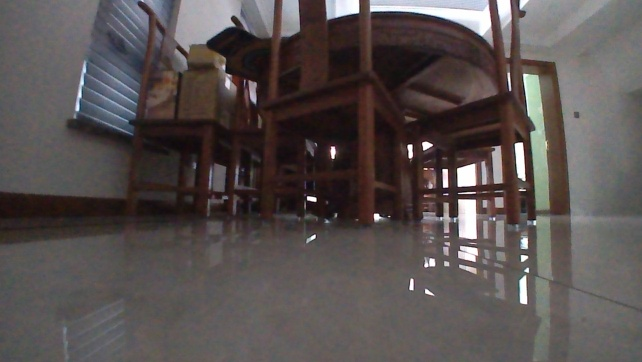dining_table: (123, 0, 539, 233)
